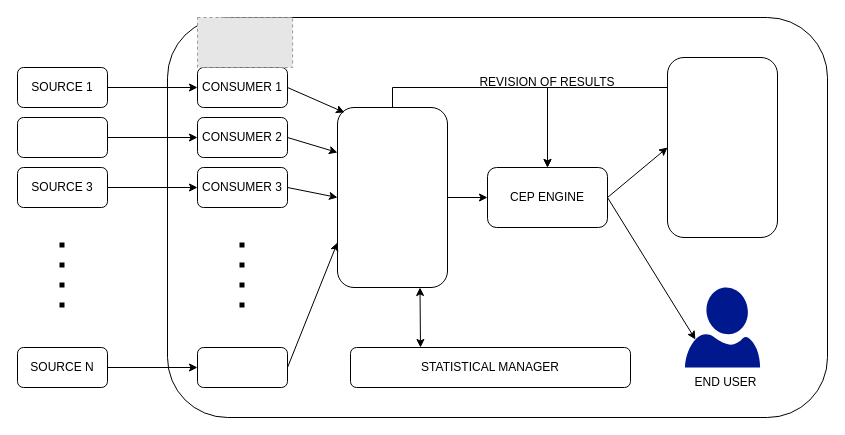
Some shapes in this 845 by 435 pixel diagram are drawn without their labels. Grey dashed boxes stand in for pictures. The shapes that lost their labels are listed below. From the top down, each one's box as (x1, y1, x2, y2) in pixels, then its label:
(16, 116, 108, 158): SOURCE 2
(666, 56, 778, 238): RESULT MANAGER
(336, 106, 448, 288): EVENT MANAGER
(196, 346, 288, 388): CONSUMER N
